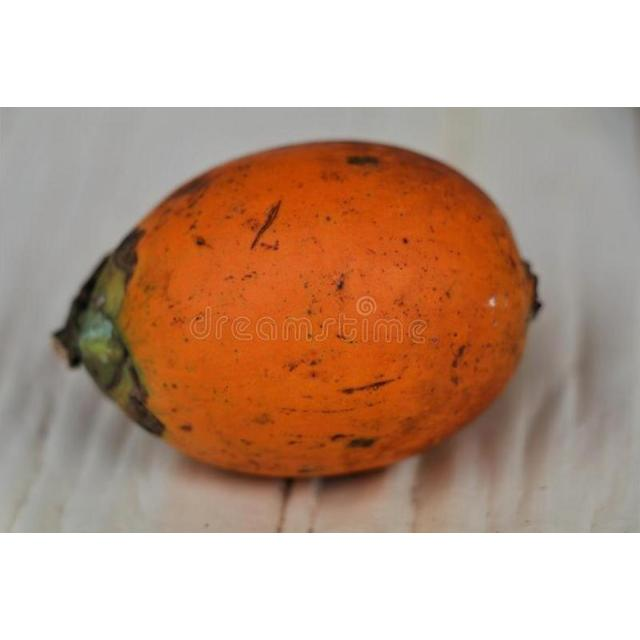good: (51, 140, 542, 482)
